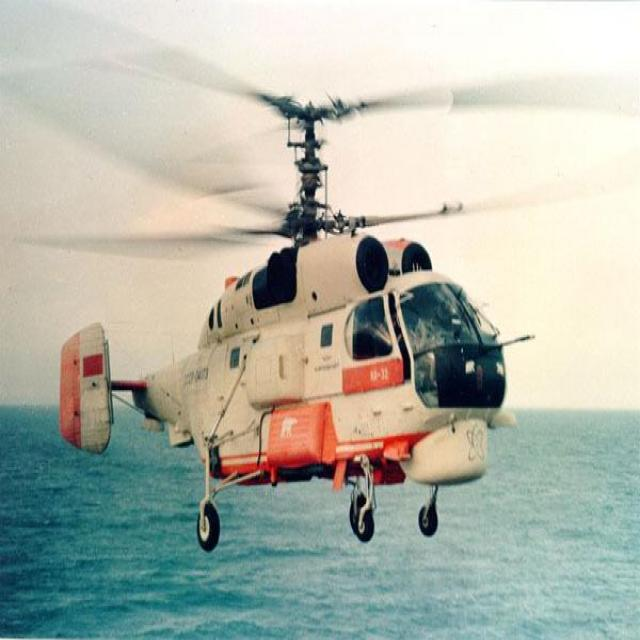MIL_HELO: (5, 0, 638, 551)
